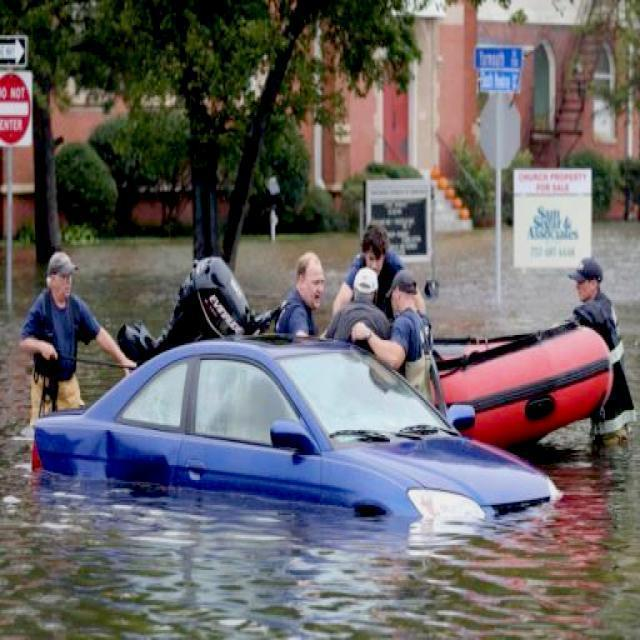water: (1, 240, 638, 639), (398, 223, 581, 337), (63, 240, 192, 333), (235, 236, 359, 325), (593, 222, 638, 458), (77, 338, 118, 405)
